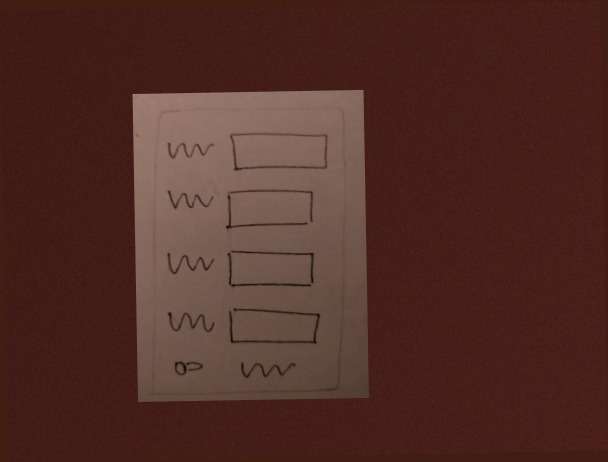switch: (163, 356, 210, 380)
text: (232, 358, 305, 386), (163, 246, 216, 281), (161, 185, 216, 217), (162, 307, 217, 339), (164, 136, 220, 165)
text_input: (225, 126, 334, 175), (224, 244, 322, 297), (224, 303, 325, 354), (224, 186, 319, 235)
